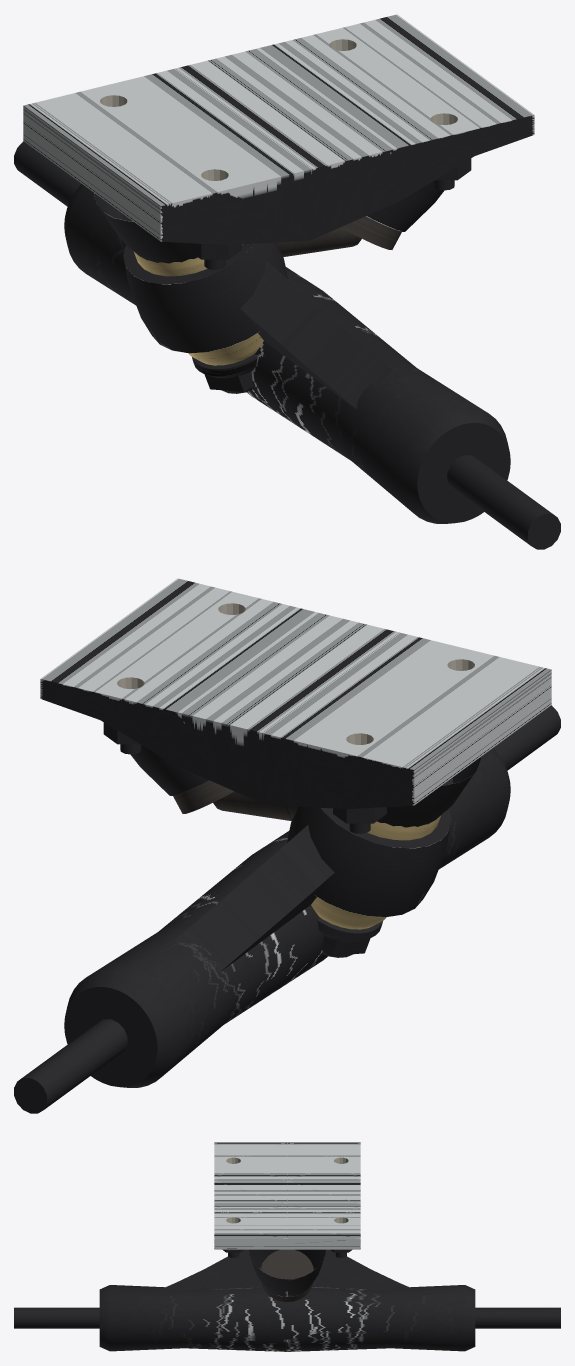
Rendered from sk8_truck_144_black.glb.
The picture shows the model from 3 angles, top to bottom: view 1: azimuth 30°, elevation 25°; view 2: azimuth 150°, elevation 25°; view 3: azimuth 270°, elevation 25°; orthographic projection. The views are drawn at different scales.
Visible parts, largest first — view 1: SM_Truck_144; view 2: SM_Truck_144; view 3: SM_Truck_144.
Part boxes in pixels (left/top/right/bottom): SM_Truck_144: left=14, top=14, right=560, bottom=549; SM_Truck_144: left=14, top=578, right=560, bottom=1113; SM_Truck_144: left=14, top=1142, right=560, bottom=1351.
Size of what is drawn, in the model's own units: 0.088 by 0.066 by 0.2095.
Materials: 1 (1 with a texture image).
